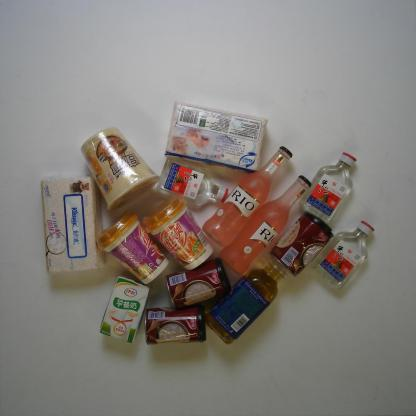Alcohol: (219, 174, 312, 276), (202, 145, 293, 248), (311, 220, 375, 290), (300, 151, 356, 222), (157, 156, 228, 206)
Canned Food: (268, 210, 334, 278), (165, 256, 232, 306), (144, 304, 206, 346)
Drink: (206, 256, 290, 346)
Instant Drink: (142, 194, 214, 271), (96, 212, 169, 285)
Instant Noodles: (80, 126, 160, 212)
Milk: (98, 275, 150, 343)
Tissue: (164, 100, 268, 174), (40, 174, 108, 275)
